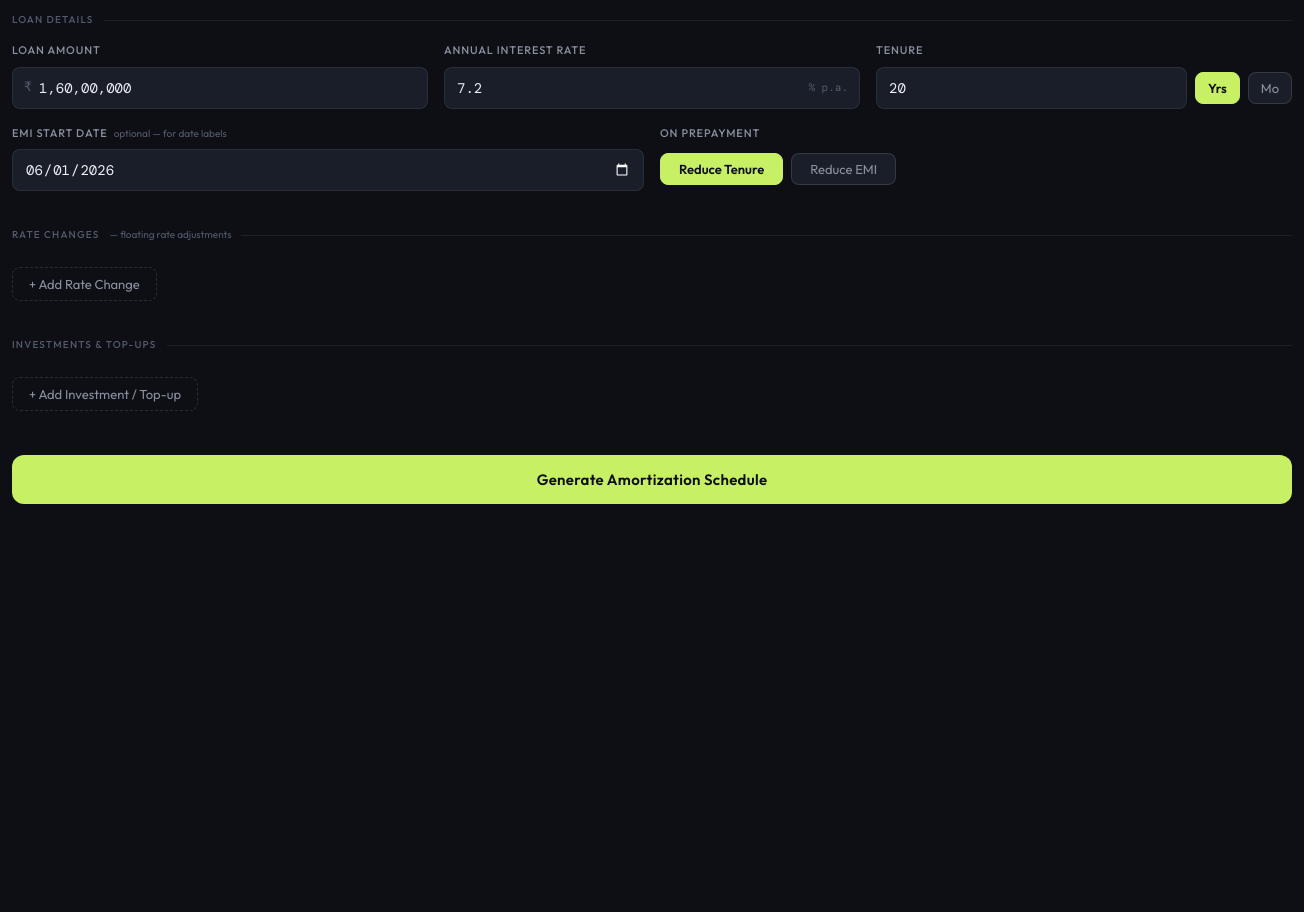
Test: AmortizationPage — investment rows › removes an investment row
The image size is (1304, 912).
What coordinates should you click on to do the following:
click the button "+ Add Investment / Top-up"
I would click on:
 (105, 394)
Its box is [12,377,198,411].
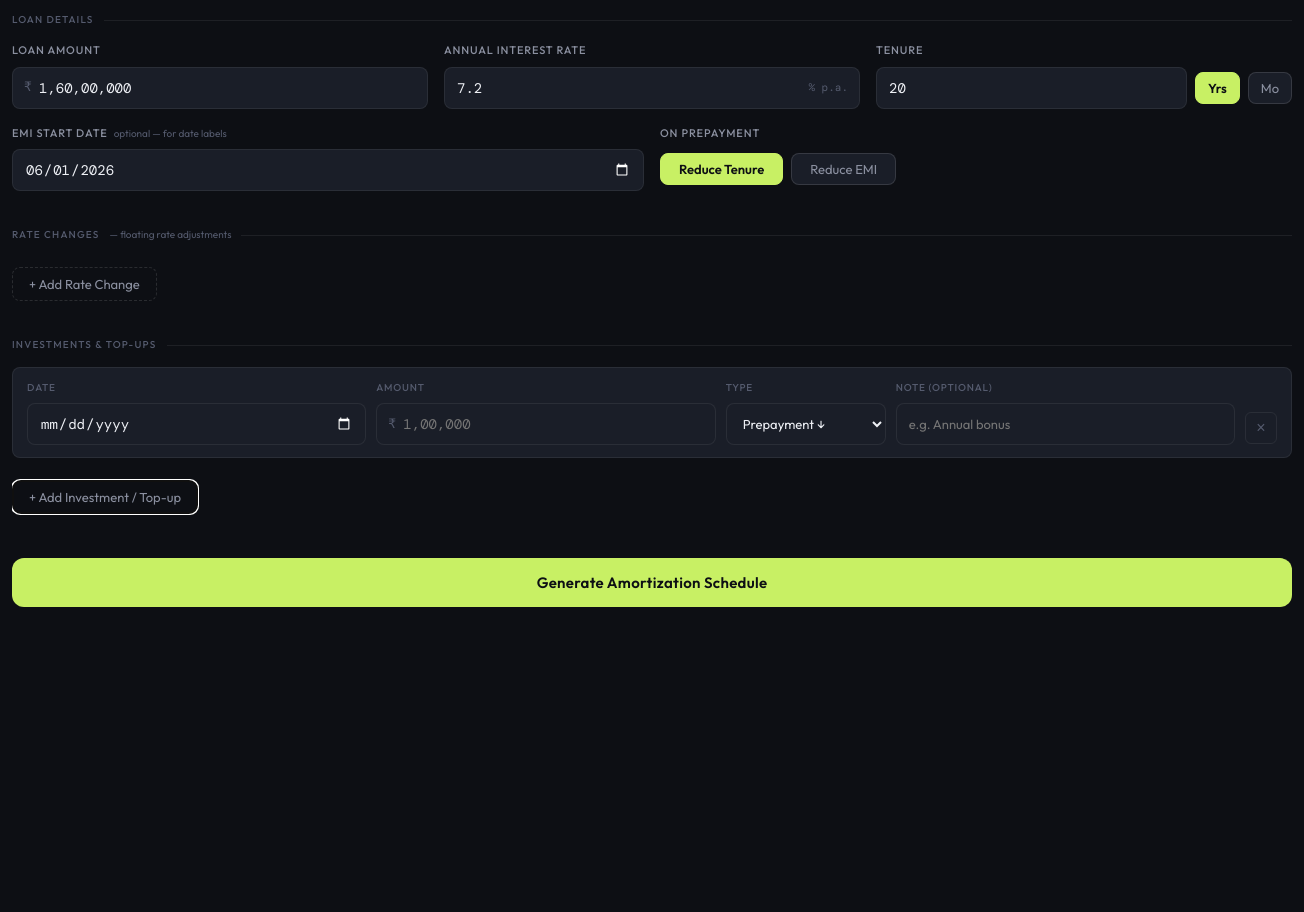
What coordinates should you click on to do the following:
click the button "+ Add Investment / Top-up"
I would click on:
 (105, 497)
Its box is [12,480,198,514].
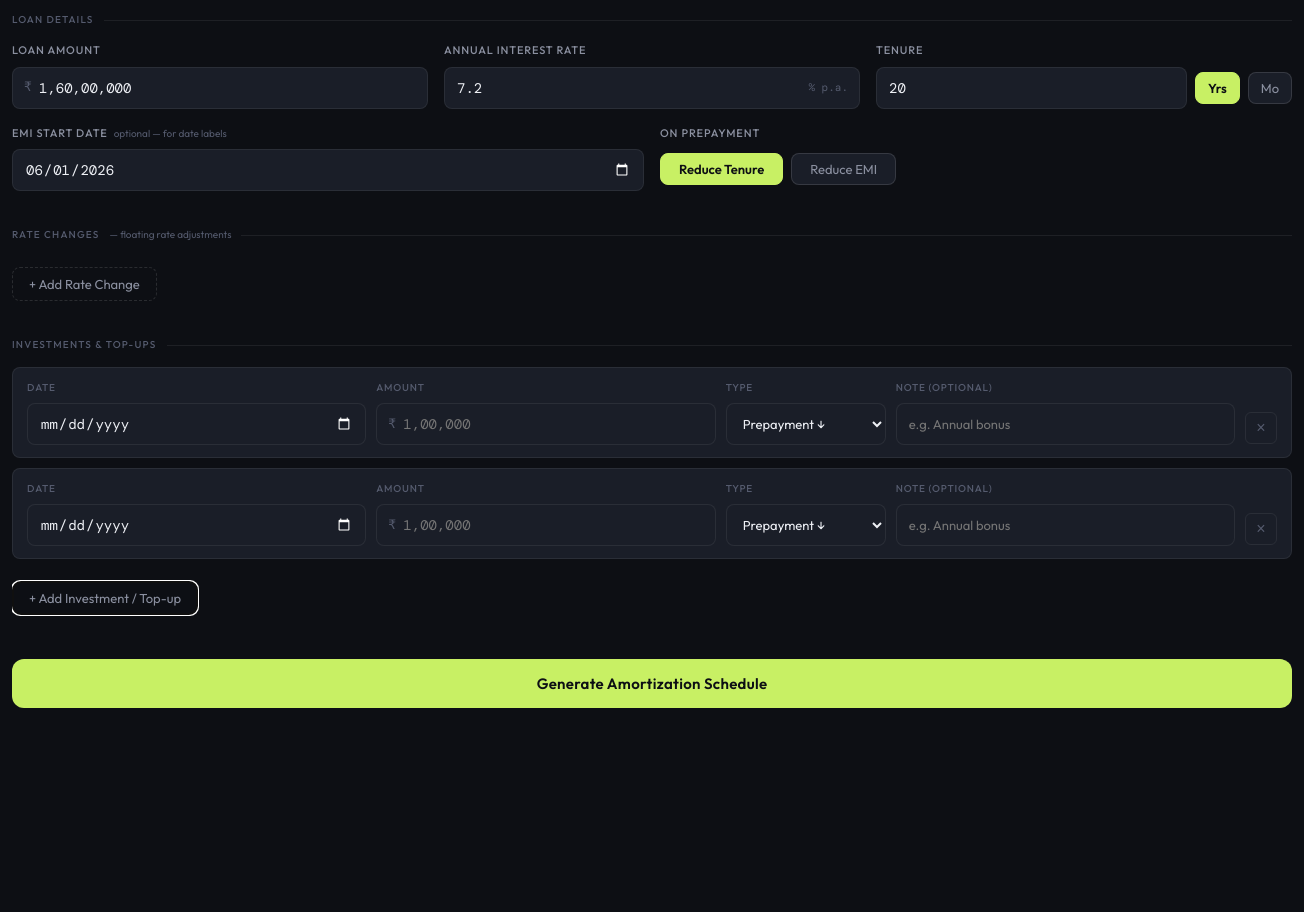
Check: the number of buttons titled "Remove" is 2
What coordinates should you click on to do the following:
click the 2nd button titled "Remove"
I would click on:
 (1261, 529)
Its box is [1245,513,1277,545].
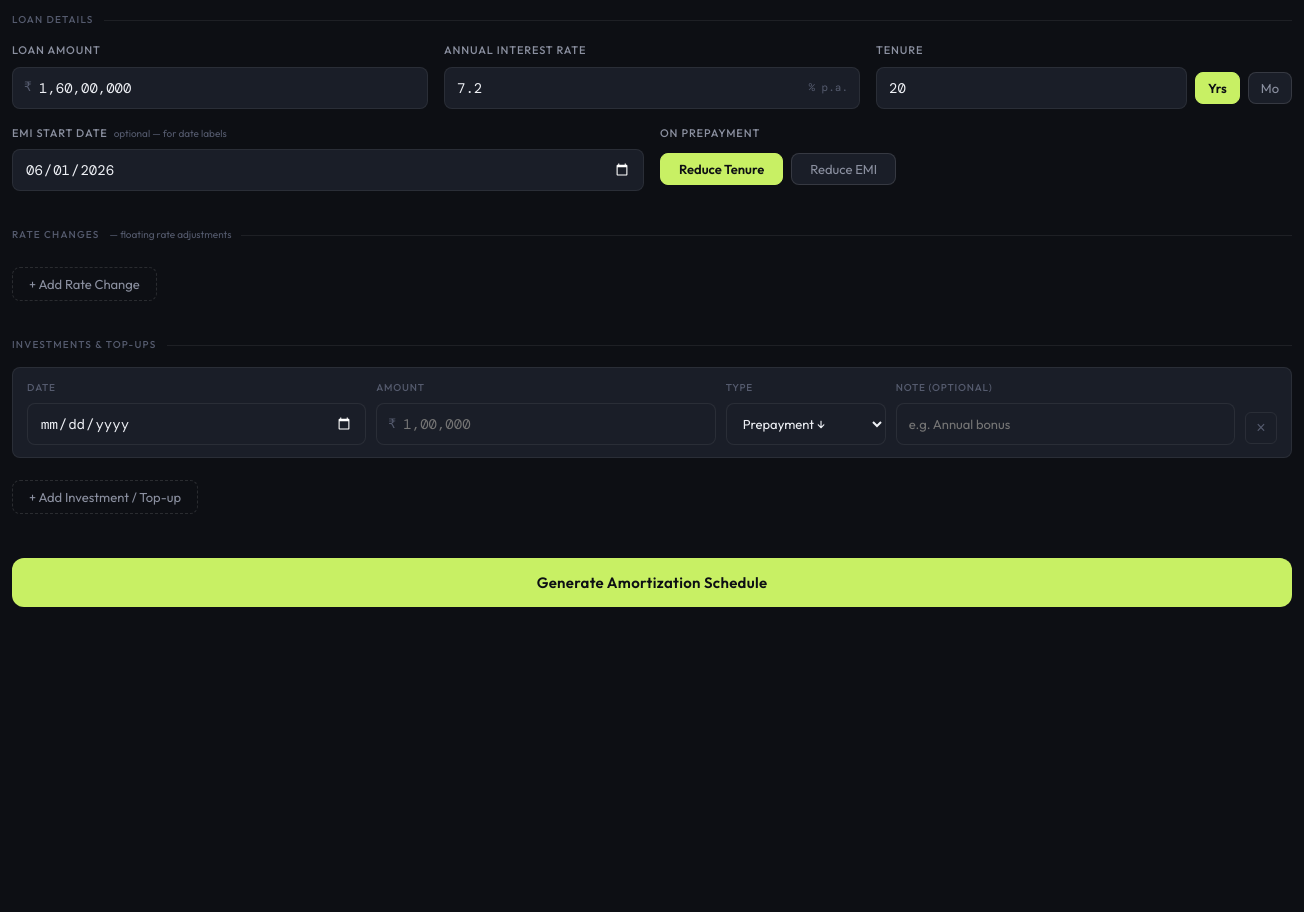
Check: the number of buttons titled "Remove" is 1, box [1245,412,1277,444]
